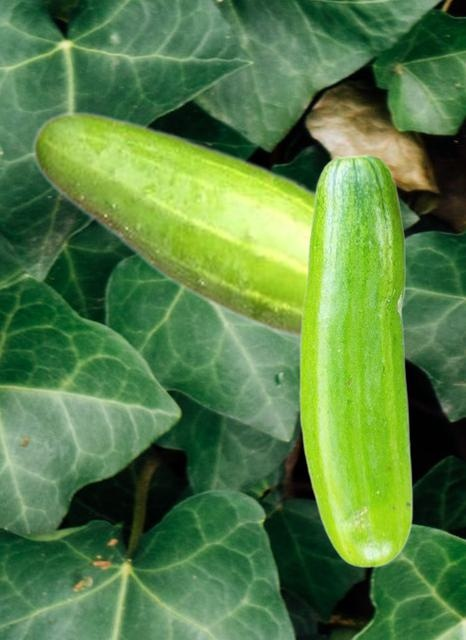cucumber: (31, 110, 406, 340), (299, 153, 412, 567)
